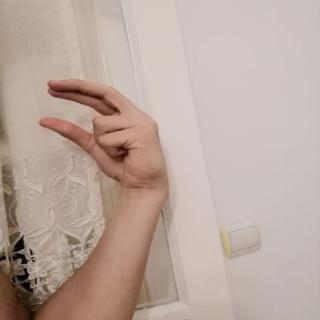DHELL: (30, 70, 174, 191)
